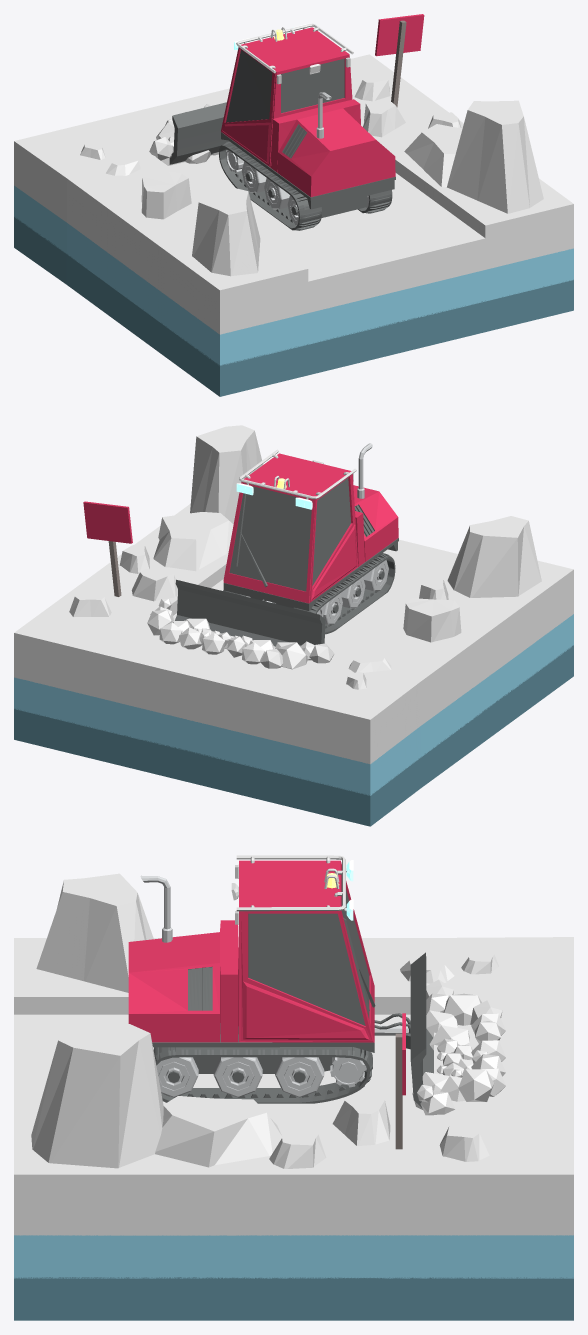
File: Race Car.fbx
The picture shows the model from 3 angles, top to bottom: view 1: azimuth 30°, elevation 25°; view 2: azimuth 150°, elevation 25°; view 3: azimuth 270°, elevation 25°; orthographic projection. The views are drawn at different scales.
Visible parts, largest first — view 1: Ground, Cabin, Ice_9, Ice_5, Windows, Tracks, Backet, Ice_1, Base, Ice_6, Cube_7, Ice (+7 smaller); view 2: Ground, Windows, Cabin, Ice_5, Backet, Ice_9, Snow, Ice_1, Ice_6, Tracks, Cube_7, Ice (+8 smaller); view 3: Ground, Cabin, Ice_9, Windows, Ice_5, Snow, Ice_1, Tracks, Backet, Ice, Base, Wheel_3 (+11 smaller).
Boxes of the visible parts, x1=… form: Ground: x1=14, y1=54, x2=573, y2=396; Cabin: x1=221, y1=27, x2=395, y2=197; Ice_9: x1=447, y1=100, x2=543, y2=213; Ice_5: x1=192, y1=188, x2=260, y2=276; Windows: x1=226, y1=50, x2=344, y2=122; Tracks: x1=219, y1=141, x2=392, y2=230; Backet: x1=169, y1=102, x2=229, y2=164; Ice_1: x1=404, y1=124, x2=462, y2=187; Base: x1=221, y1=132, x2=395, y2=217; Ice_6: x1=141, y1=172, x2=191, y2=219; Cube_7: x1=375, y1=14, x2=424, y2=56; Ice: x1=363, y1=101, x2=405, y2=137; Ground: x1=14, y1=504, x2=573, y2=826; Windows: x1=229, y1=478, x2=350, y2=591; Cabin: x1=223, y1=453, x2=398, y2=603; Ice_5: x1=447, y1=516, x2=541, y2=597; Backet: x1=175, y1=579, x2=325, y2=646; Ice_9: x1=190, y1=425, x2=263, y2=523; Snow: x1=147, y1=598, x2=334, y2=669; Ice_1: x1=153, y1=512, x2=233, y2=571; Ice_6: x1=403, y1=598, x2=461, y2=642; Tracks: x1=223, y1=553, x2=395, y2=634; Cube_7: x1=83, y1=501, x2=132, y2=543; Ice: x1=131, y1=569, x2=177, y2=601; Ground: x1=14, y1=937, x2=573, y2=1320; Cabin: x1=128, y1=860, x2=374, y2=1042; Ice_9: x1=31, y1=1024, x2=163, y2=1168; Windows: x1=248, y1=875, x2=369, y2=1025; Ice_5: x1=36, y1=873, x2=153, y2=992; Snow: x1=412, y1=979, x2=505, y2=1115; Ice_1: x1=155, y1=1096, x2=282, y2=1167; Tracks: x1=153, y1=1047, x2=372, y2=1103; Backet: x1=406, y1=952, x2=433, y2=1107; Ice: x1=332, y1=1095, x2=390, y2=1145; Base: x1=152, y1=1023, x2=374, y2=1073; Wheel_3: x1=213, y1=1057, x2=262, y2=1097.
Bounding box in the file's own units: 8410 × 5428 × 8376.
